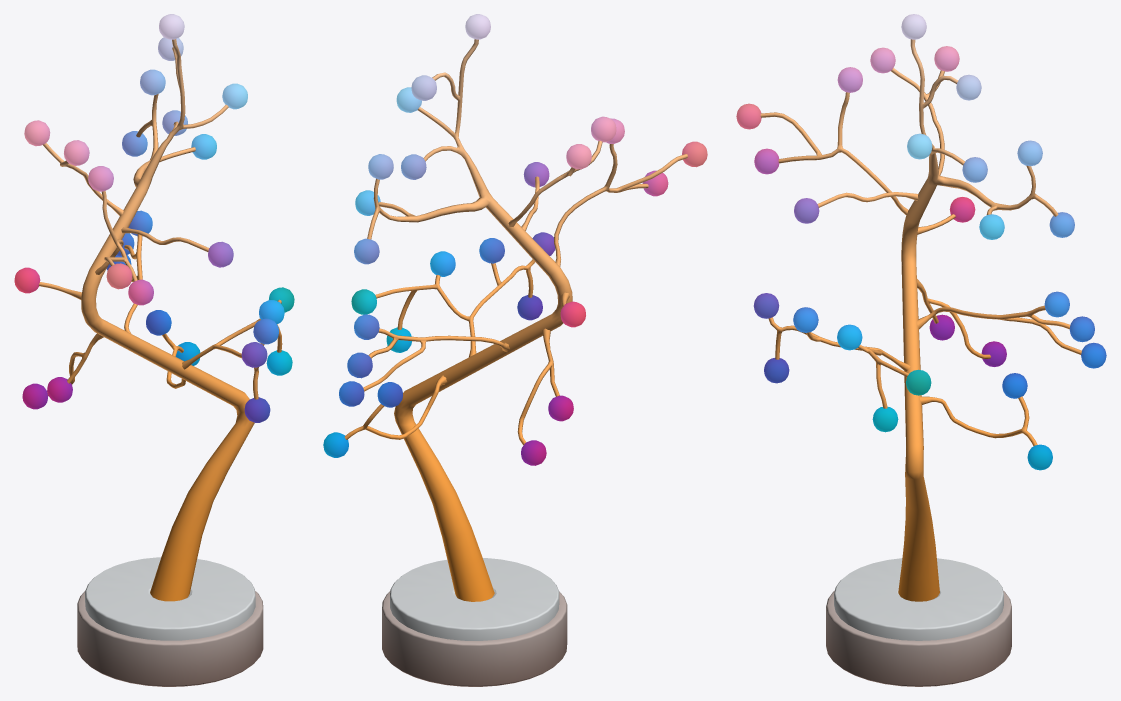
File: Night_Lamp_02.glb
The picture shows the model from 3 angles, left to right: view 1: azimuth 30°, elevation 25°; view 2: azimuth 150°, elevation 25°; view 3: azimuth 270°, elevation 25°; orthographic projection.
Parts seen in each view (by area): view 1: Night_Lamp_02; view 2: Night_Lamp_02; view 3: Night_Lamp_02.
Part boxes in pixels (x1=…): Night_Lamp_02: x1=14, y1=14, x2=294, y2=686; Night_Lamp_02: x1=323, y1=14, x2=707, y2=686; Night_Lamp_02: x1=736, y1=14, x2=1106, y2=686.
Bounding box in the file's own units: 0.2522 × 0.5686 × 0.3014.
Materials: 3 (3 with a texture image).
